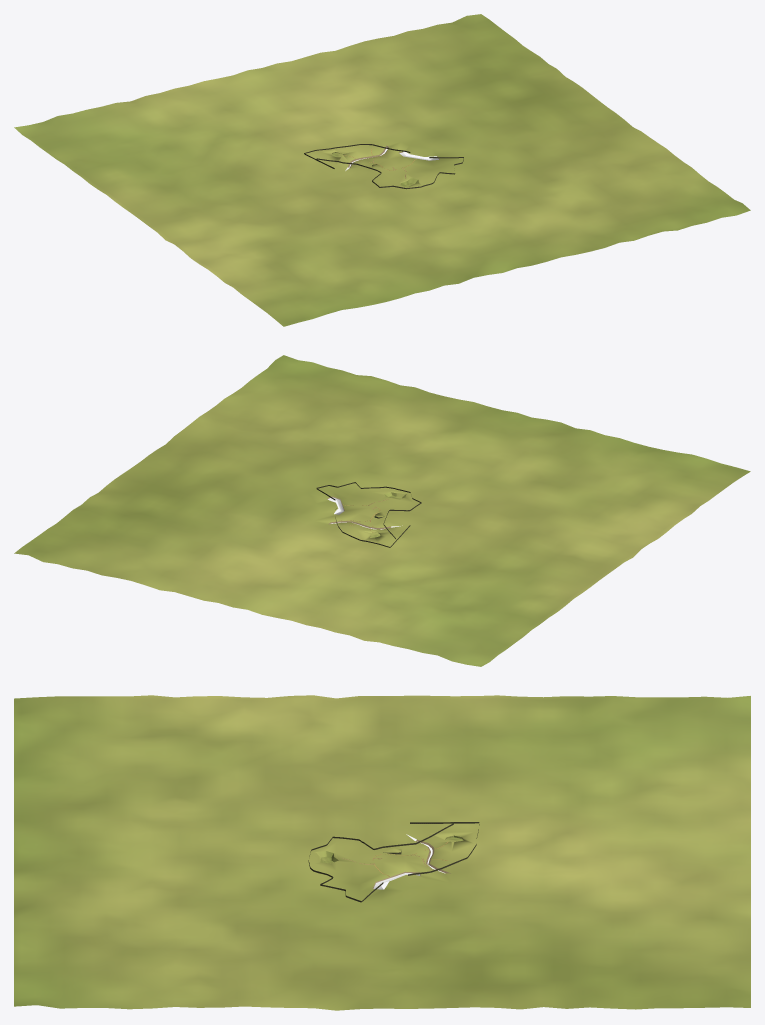
File: field_main 1.fbx
3 views of the same model, one above another, from view 1: azimuth 30°, elevation 25°; view 2: azimuth 150°, elevation 25°; view 3: azimuth 270°, elevation 25° (orthographic). The views are drawn at different scales.
Visible parts, largest first — view 1: terrain, fieldWall; view 2: terrain; view 3: terrain, fieldWall.
Boxes of the visible parts, x1,y1,x2,y2 form: terrain: (14,14,750,326); fieldWall: (304,144,463,189); terrain: (14,355,750,666); terrain: (14,695,750,1010); fieldWall: (308,822,479,902).
Bounding box in the file's own units: 345699 × 4392 × 345699.
